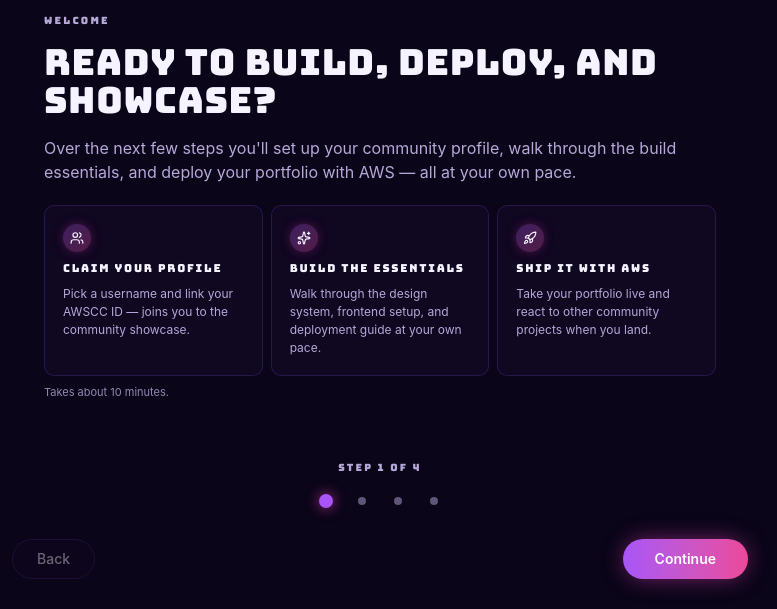
Test: <OnboardingFlow /> › hides the Continue button on Step 2 (form provides its own submit)
Click the button "Continue". click: (685, 559)
box: [623,539,748,579]
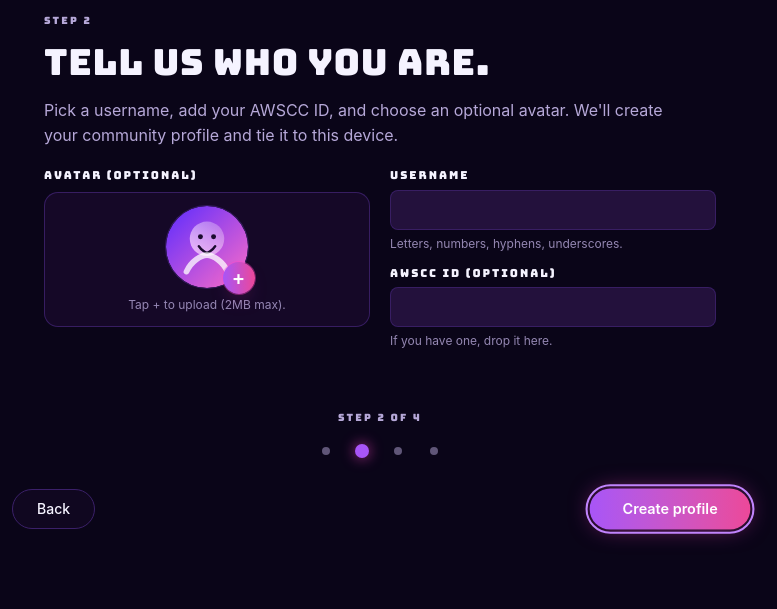
expect the button "Create profile" is shown: met, box [589,488,750,530]
expect the button "Continue" is gone: met
